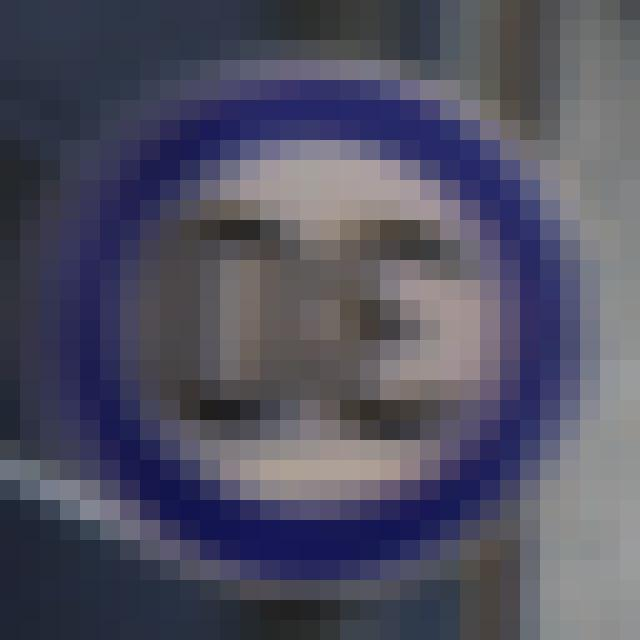SPEED LIMIT 30: (78, 102, 556, 604)
